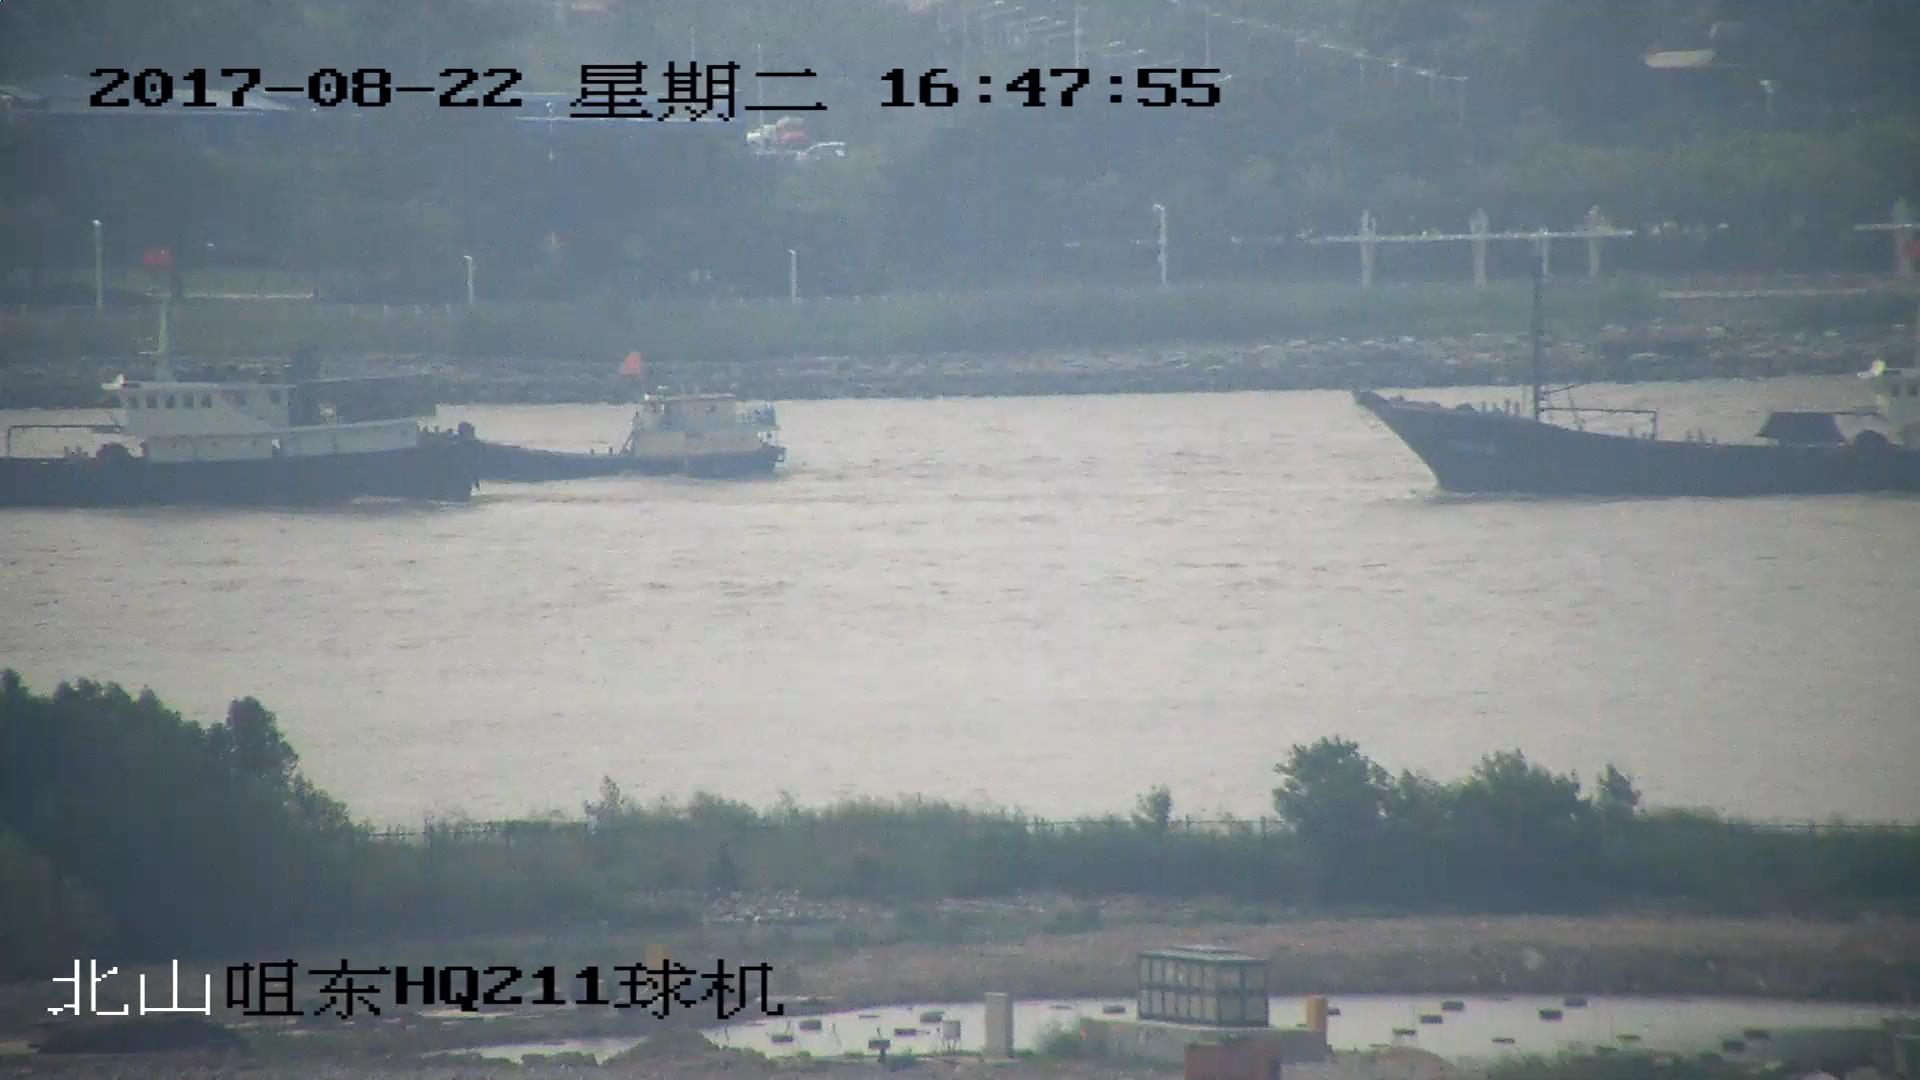fishing boat: (1359, 265, 1920, 493), (1, 256, 485, 512), (421, 354, 785, 486)
